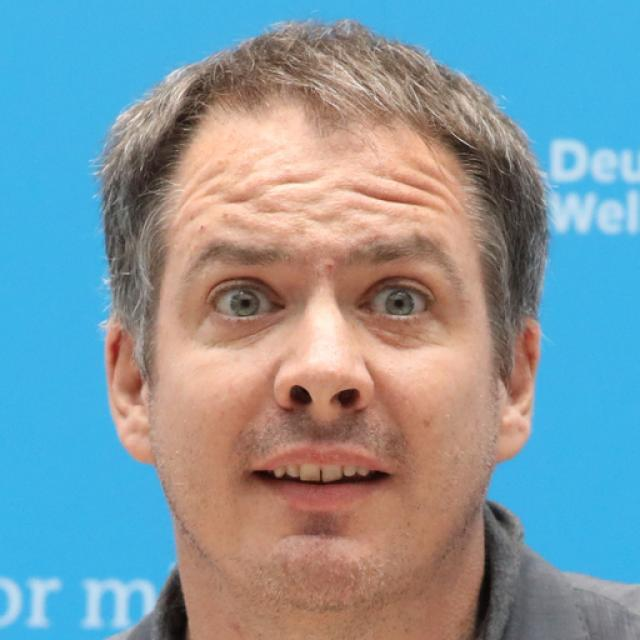surprise: (152, 96, 502, 619)
